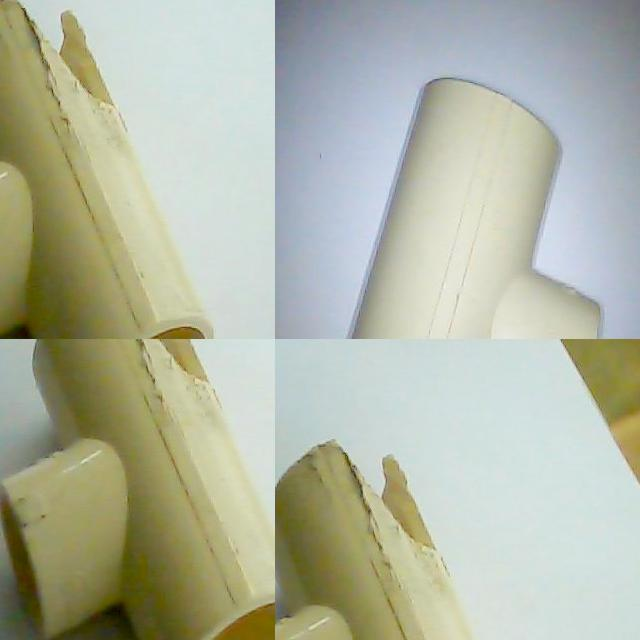Defective: (334, 441, 439, 553), (17, 0, 117, 108), (357, 457, 432, 549), (103, 339, 214, 388)
T Joint: (1, 339, 275, 640), (346, 77, 605, 339), (275, 440, 476, 640)
